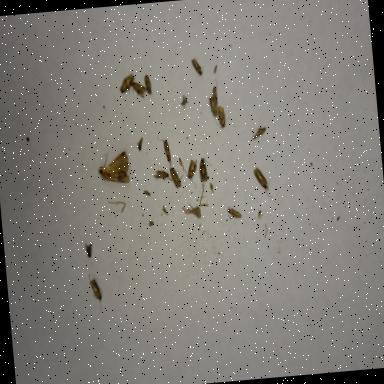abw: (97, 150, 130, 186)
pbw: (254, 166, 272, 198), (182, 158, 200, 190), (89, 275, 104, 313), (198, 157, 214, 187), (157, 136, 172, 168), (118, 73, 138, 96), (169, 164, 185, 190), (214, 104, 230, 129), (209, 78, 220, 106), (132, 80, 148, 99), (191, 57, 205, 76), (207, 95, 218, 118), (251, 126, 268, 140), (143, 75, 153, 96), (153, 170, 170, 182), (228, 206, 242, 220), (135, 137, 144, 151), (144, 190, 151, 197)
